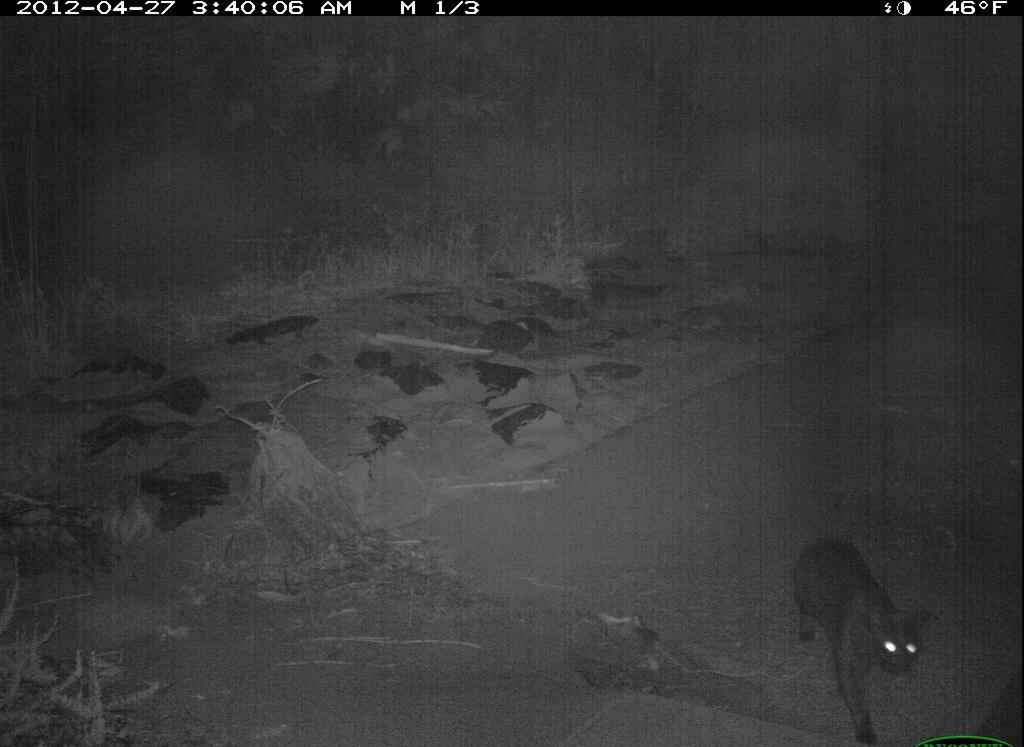cat: (780, 514, 944, 747)
